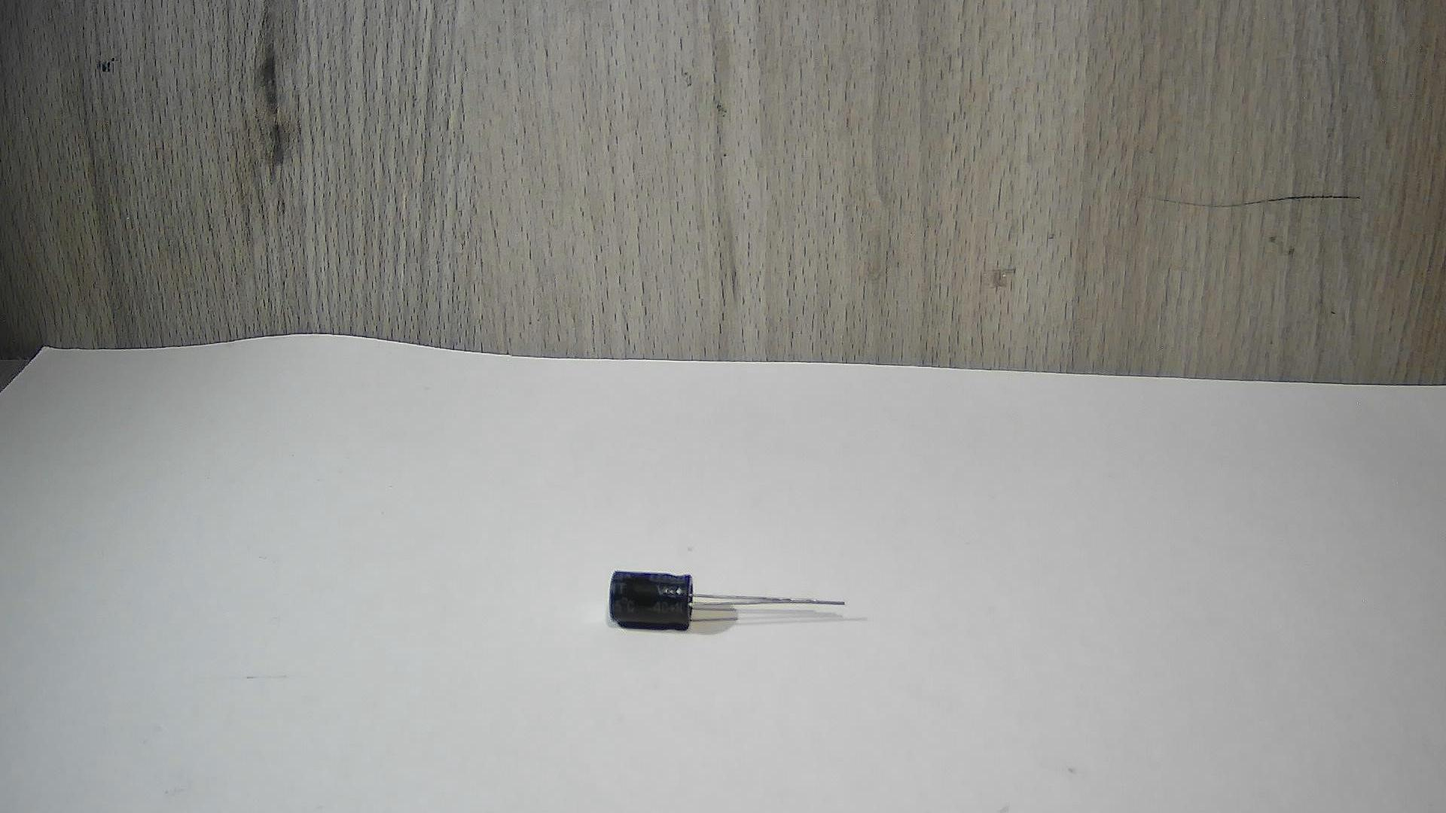Capacitor: (587, 549, 858, 665)
